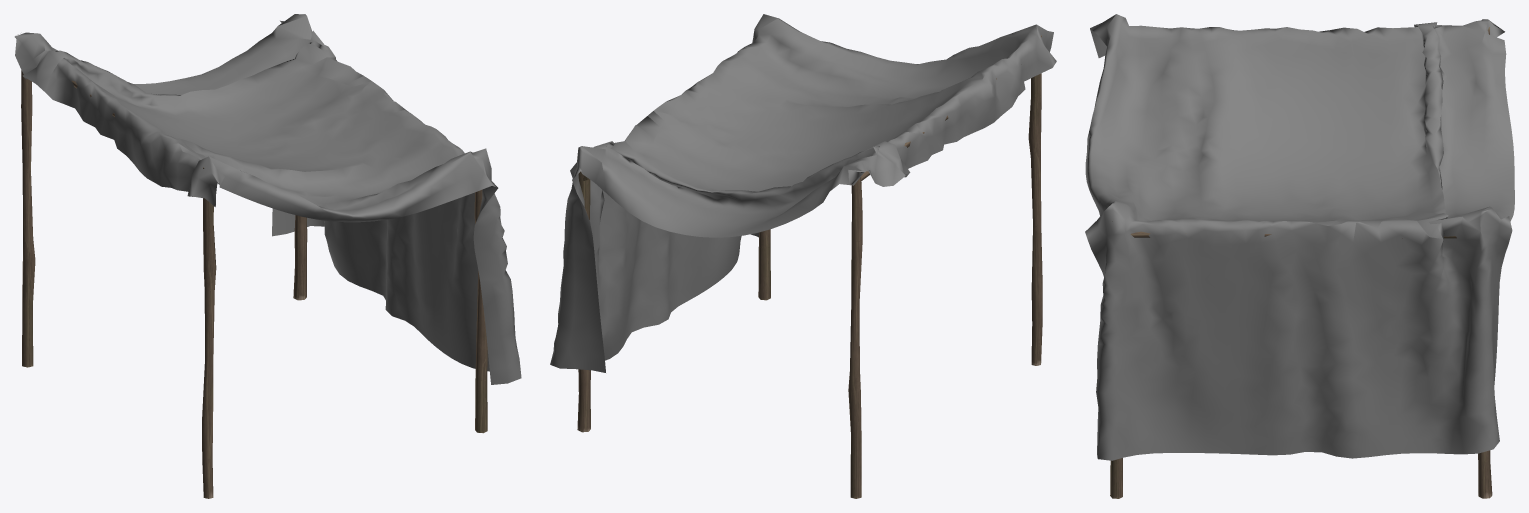
Rendered from SM_marketstand_02.fbx.
The picture shows the model from 3 angles, left to right: view 1: azimuth 30°, elevation 25°; view 2: azimuth 150°, elevation 25°; view 3: azimuth 270°, elevation 25°; orthographic projection. The views are drawn at different scales.
Parts seen in each view (by area): view 1: Object32554; view 2: Object32554; view 3: Object32554.
Part boxes in pixels (x1=…): Object32554: x1=14, y1=14, x2=521, y2=498; Object32554: x1=550, y1=14, x2=1056, y2=498; Object32554: x1=1085, y1=14, x2=1514, y2=498.
Bounding box in the file's own units: 137 × 133 × 150.
